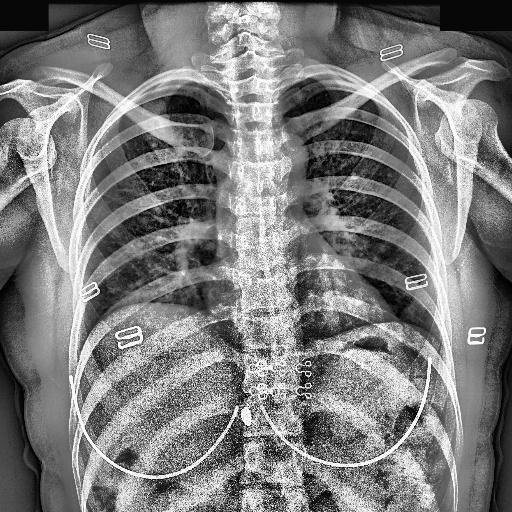0- Aortic enlargement: (254, 130, 310, 188)
3- Cardiomegaly: (200, 274, 406, 343), (203, 268, 401, 339)
8- Nodule-Mass: (360, 98, 380, 123)
